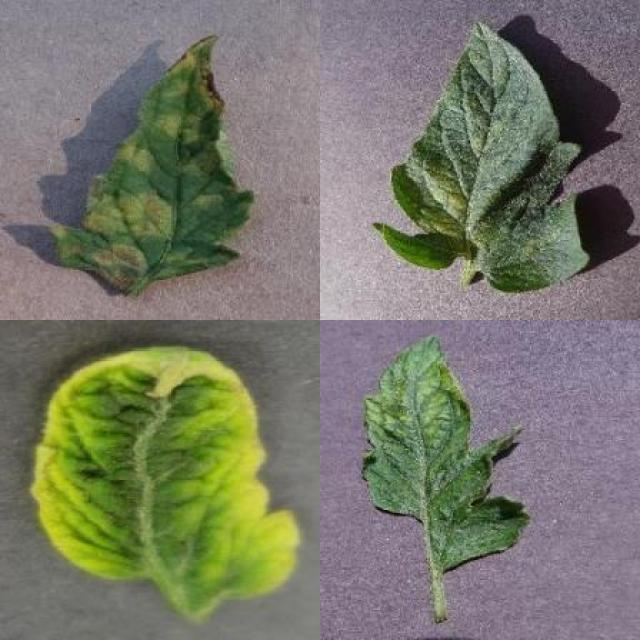Leaf Mold: (52, 34, 251, 296)
Mosaic Virus: (362, 333, 532, 574)
Spider Mites: (370, 20, 590, 293)
Yellow Leaf Curl Virus: (31, 344, 302, 619)
